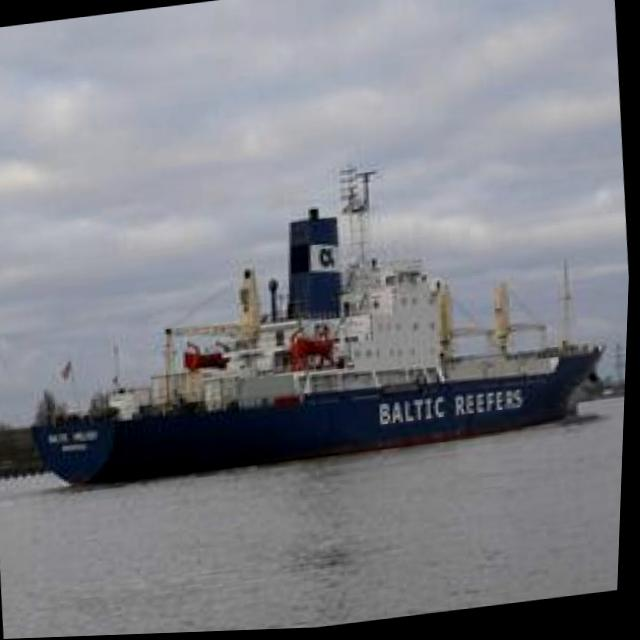ship2: (31, 169, 612, 485)
